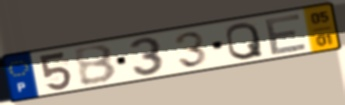3: (127, 36, 167, 77), (173, 31, 209, 68)
5: (37, 49, 75, 92)
B: (71, 43, 119, 88)
E: (263, 11, 310, 57)
Q: (224, 20, 266, 61)
